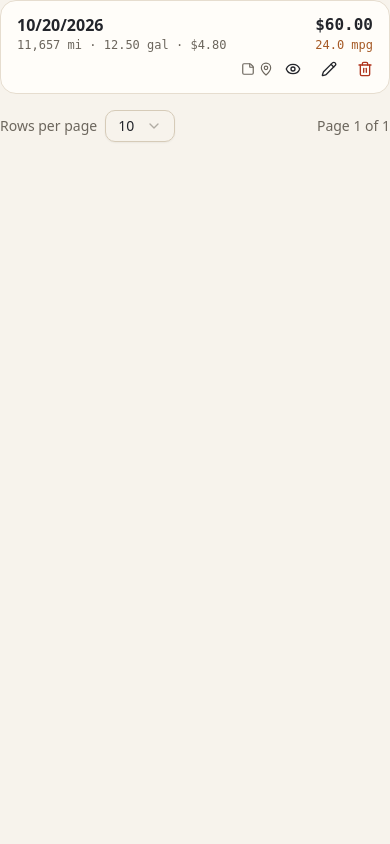
Test: record details › every fillup has a View button that shows notes, location and figures without editing
The width and height of the screenshot is (390, 844).
Click the button named "View fillup from" at x=293, y=69, box [277,53,309,85]
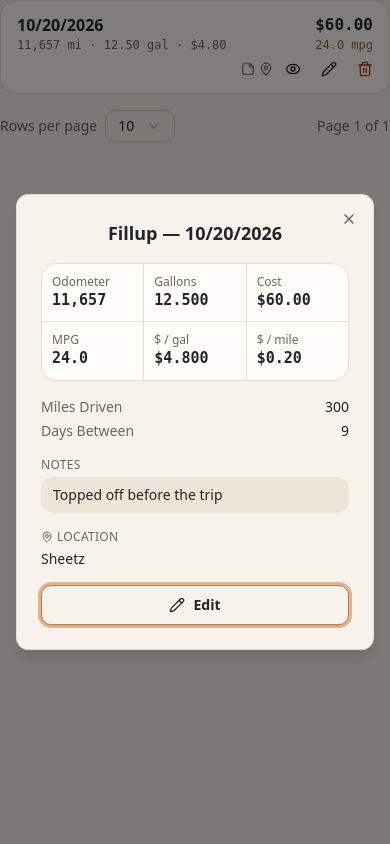
Expected: the text "Topped off before the trip" is shown, [41,477,349,513]
Expected: the text "Sheetz" is shown, [41,549,85,568]
Expected: the text "11,657" is shown, [52,291,106,309]
